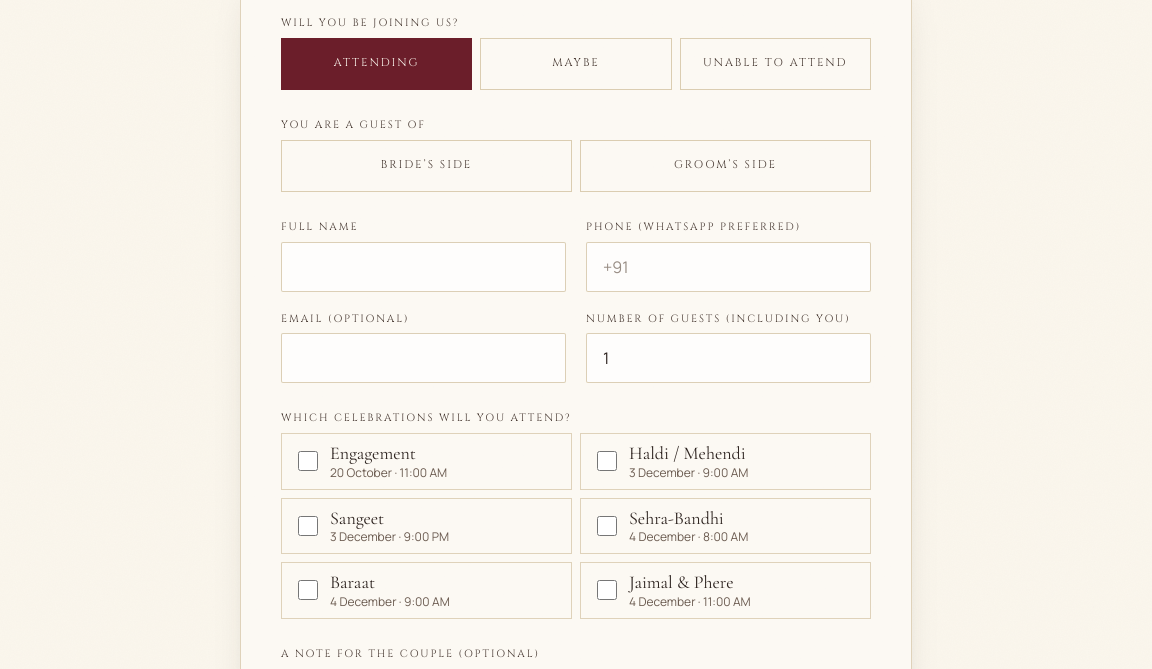
it: RsvpForm › shows a friendly error when the server rejects the RSVP
This screenshot has width=1152, height=669.
Click the radio button "Bride’s side" at (426,166), box x1=281 y1=140 x2=572 y2=192
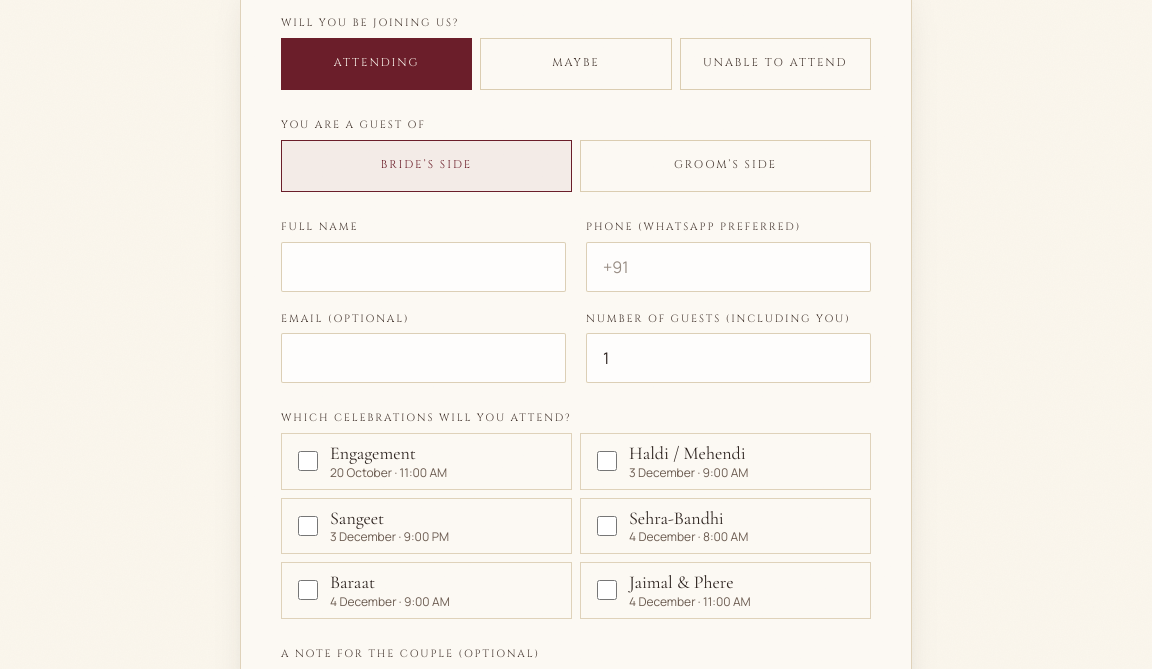
Type "Meera Joshi" into the field labelled "Full name" at (424,266), box x1=281 y1=242 x2=566 y2=292
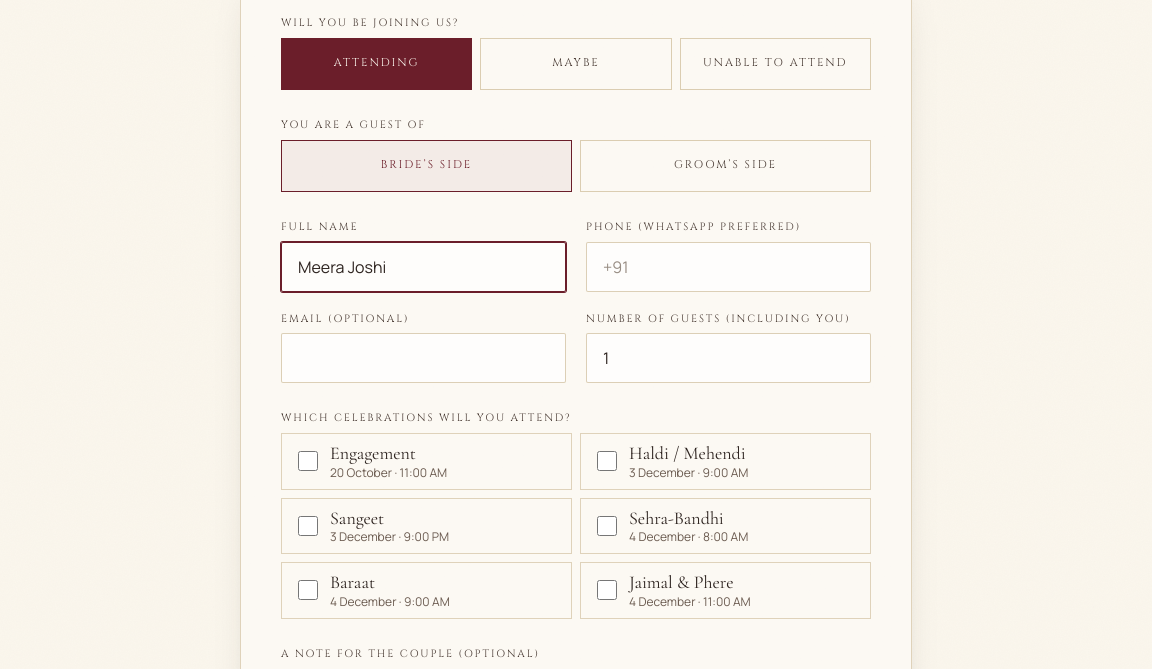
Type "9810011007" into the field labelled "Phone (WhatsApp preferred)" at (728,266), box x1=586 y1=242 x2=871 y2=292
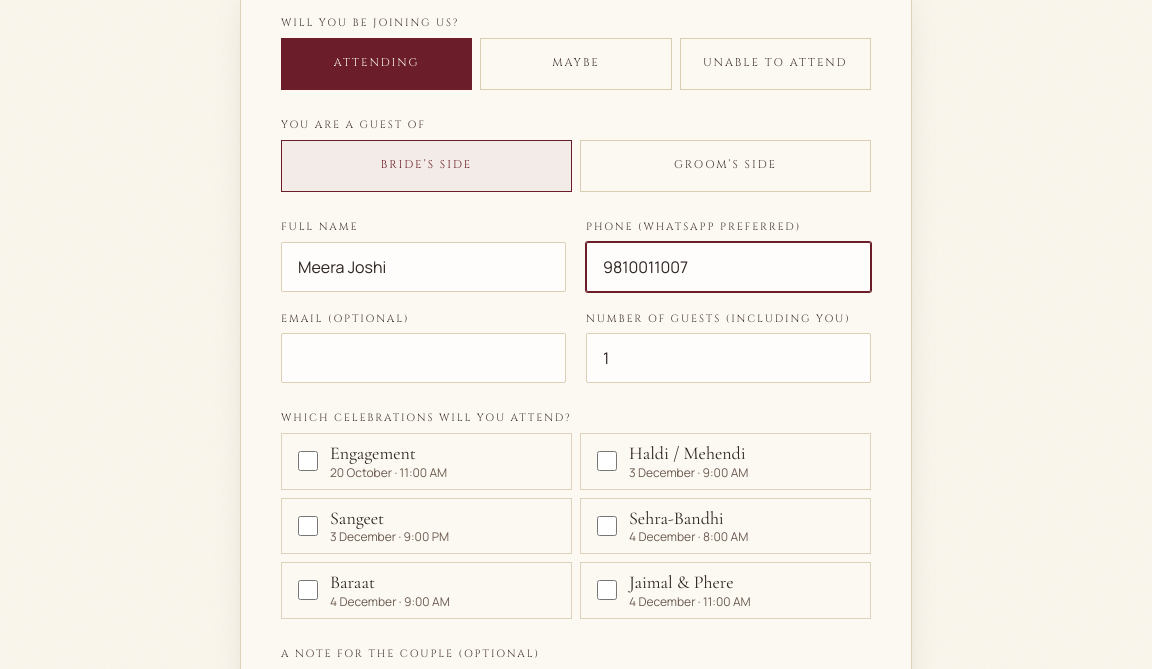
Click the checkbox labelled "Sangeet 3 December · 9:00 PM" at (308,526), box x1=298 y1=516 x2=318 y2=536
(page scrolled)
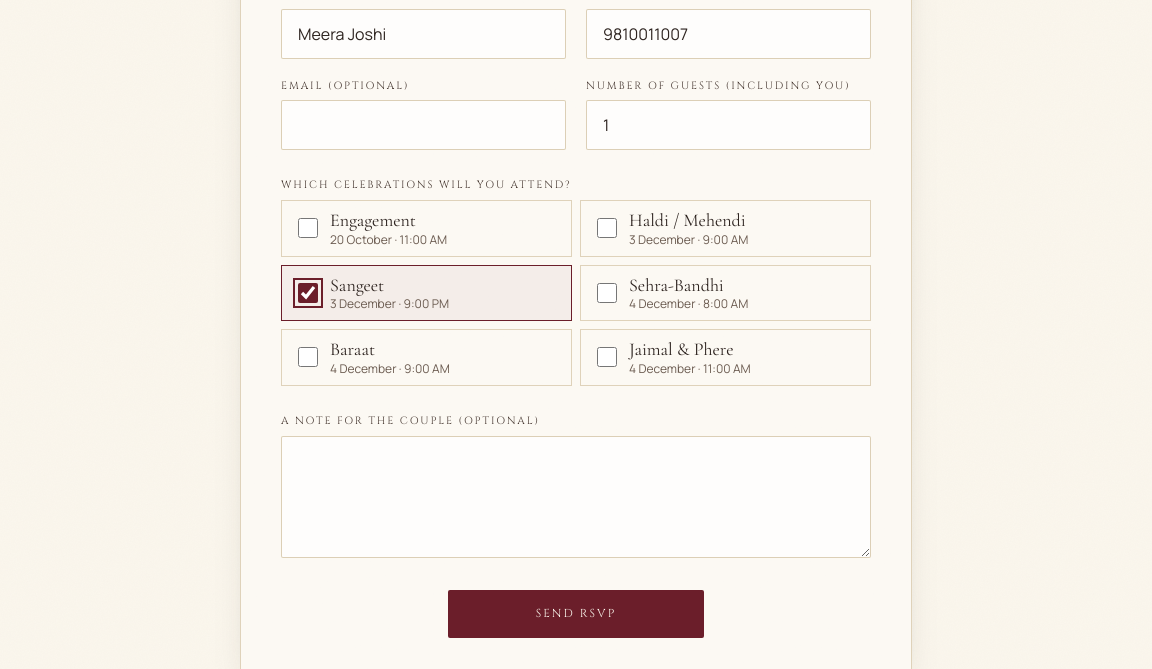
Click the button "Send RSVP" at (576,614), box x1=448 y1=590 x2=704 y2=638
(page scrolled)
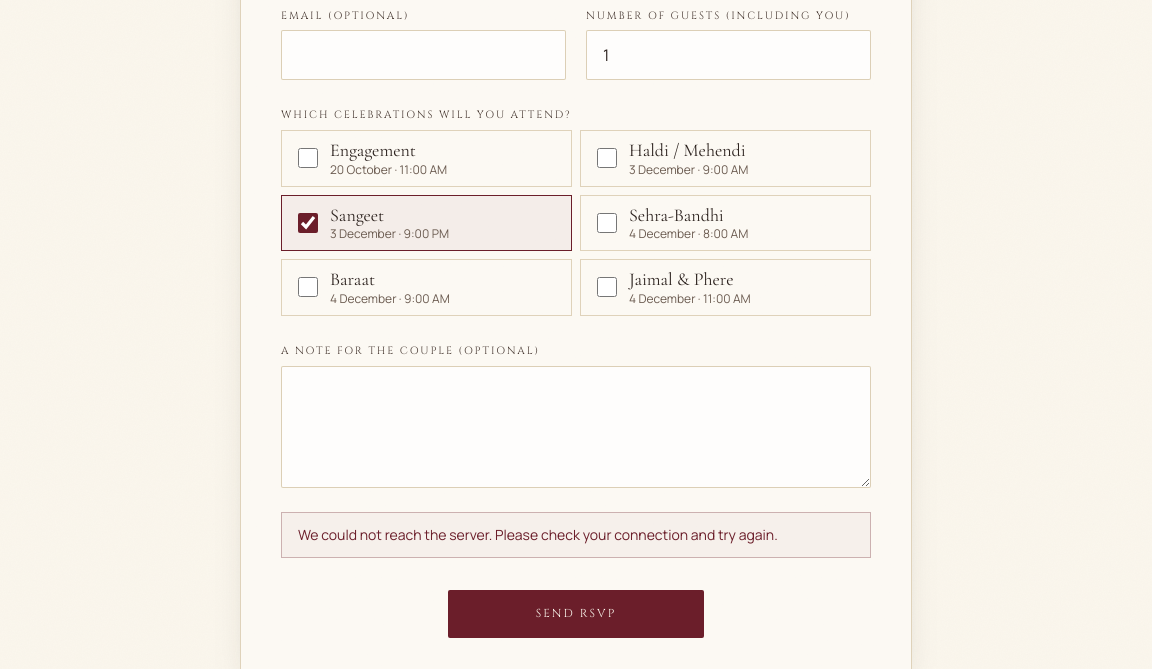
Now the message shows "We could not reach the server", box x1=298 y1=525 x2=778 y2=544
